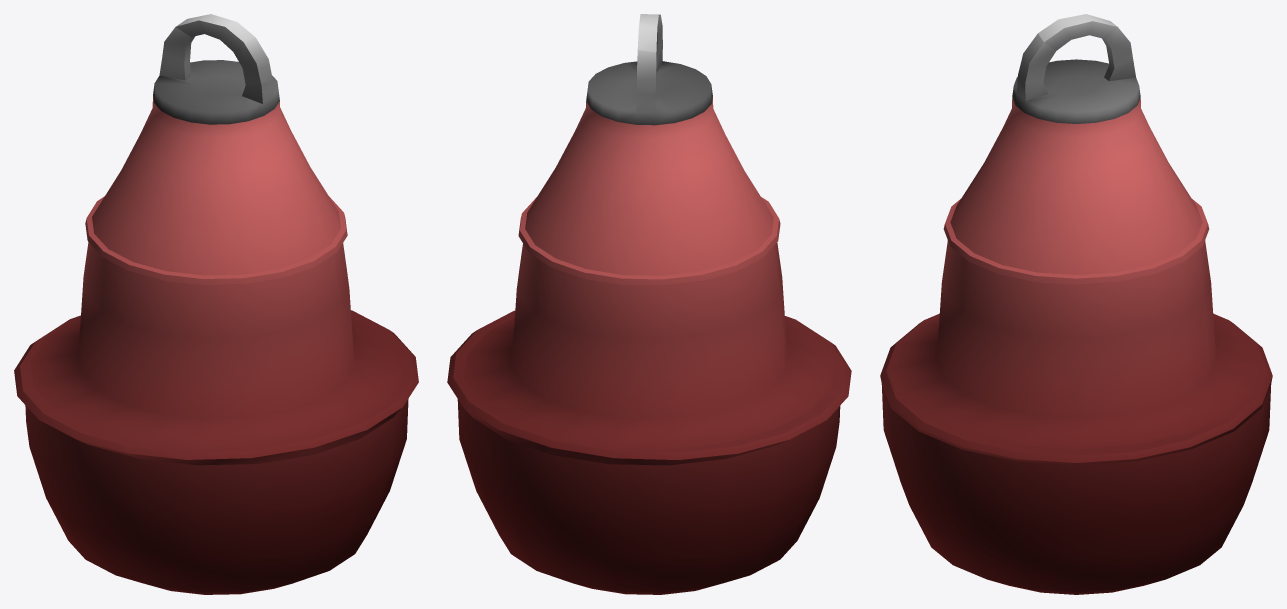
File: M_Buoy.fbx
3 renders of one model, left to right at view 1: azimuth 30°, elevation 25°; view 2: azimuth 150°, elevation 25°; view 3: azimuth 270°, elevation 25°, orthographic.
Parts seen in each view (by area): view 1: Buoy; view 2: Buoy; view 3: Buoy.
Part boxes in pixels (bbox=[...]): Buoy: bbox=[14, 14, 418, 594]; Buoy: bbox=[447, 14, 851, 594]; Buoy: bbox=[880, 14, 1272, 594].
Bounding box in the file's own units: 20.45 × 30.05 × 19.54.
